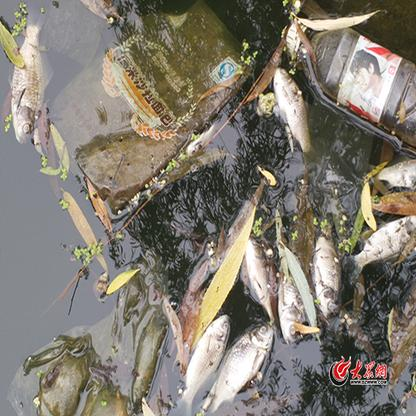deceased fish: (211, 317, 276, 414), (10, 18, 52, 147), (340, 211, 416, 281), (176, 312, 229, 412), (271, 241, 310, 345), (271, 70, 314, 154), (244, 232, 281, 326), (311, 220, 343, 318)
plastic bottle: (280, 13, 416, 146)
